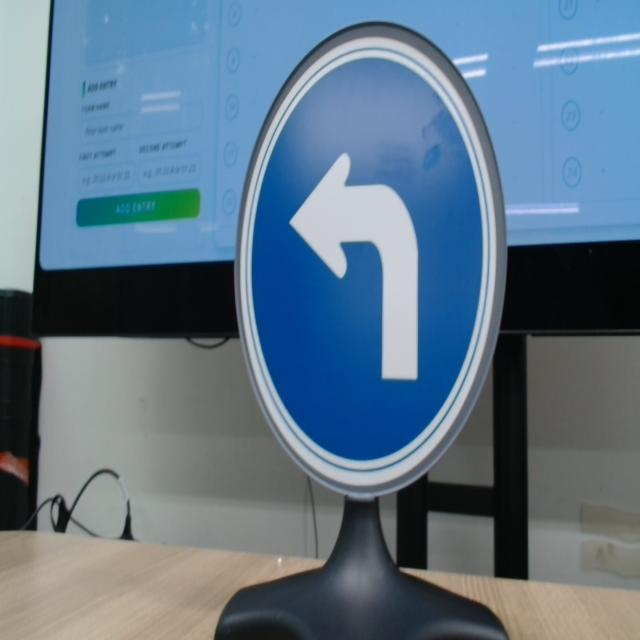left_direction: (233, 9, 518, 542)
